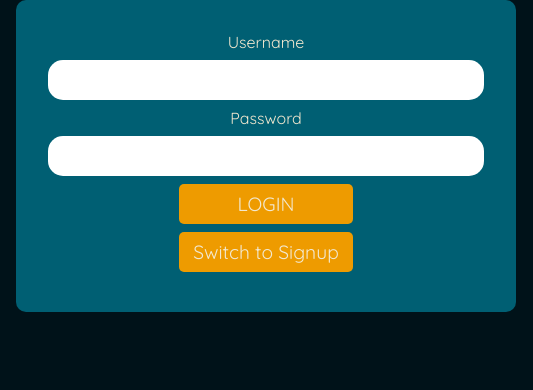
Test case: Authenticate Component › shows an error message on invalid login credentials
Simulate user input for invalid credentials
In the field labelled "Username": (266, 80) x1=48 y1=60 x2=484 y2=100, type "wronguser"
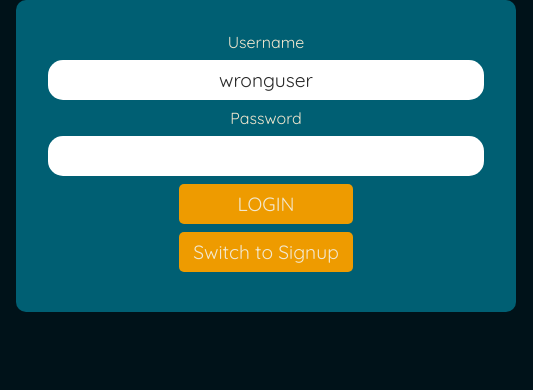
In the password field labelled "Password": (266, 156) x1=48 y1=136 x2=484 y2=176, type "wrongpassword"
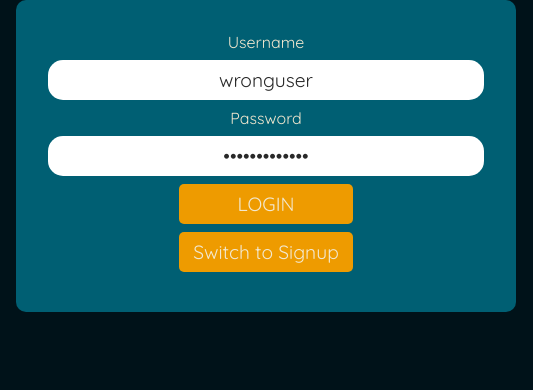
Click the login button
Click the button "LOGIN": (266, 204) x1=179 y1=184 x2=353 y2=224
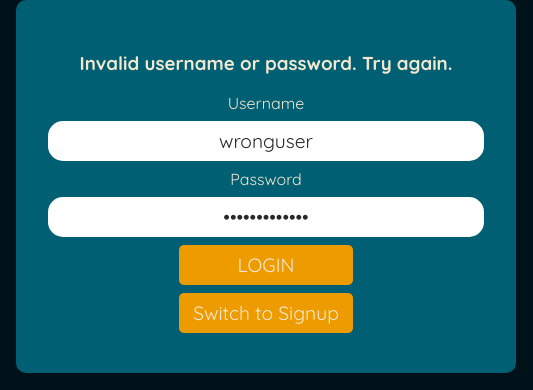
Now the heading "Invalid username or password. Try again." is shown, box x1=48 y1=51 x2=484 y2=75
